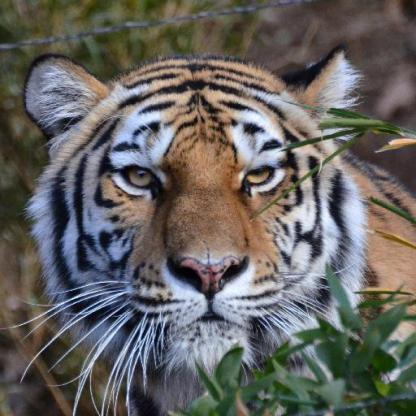tiger: (24, 45, 364, 369)
